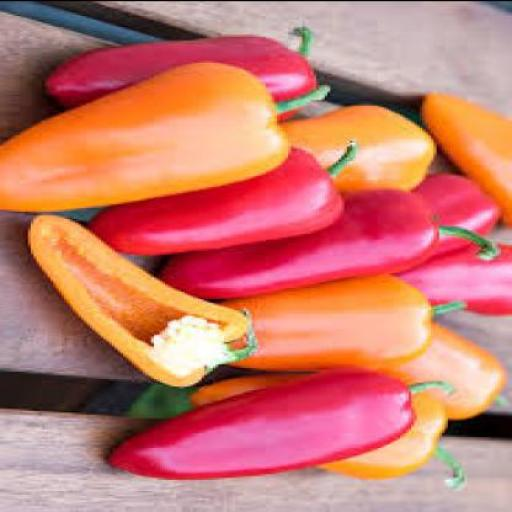biodegradable: (3, 60, 333, 210), (25, 208, 263, 384), (106, 367, 461, 479), (162, 186, 504, 296), (196, 366, 467, 488), (86, 140, 364, 252), (42, 26, 322, 119), (222, 270, 472, 366), (280, 98, 440, 192), (428, 91, 511, 231), (400, 320, 511, 417), (428, 169, 501, 248)
